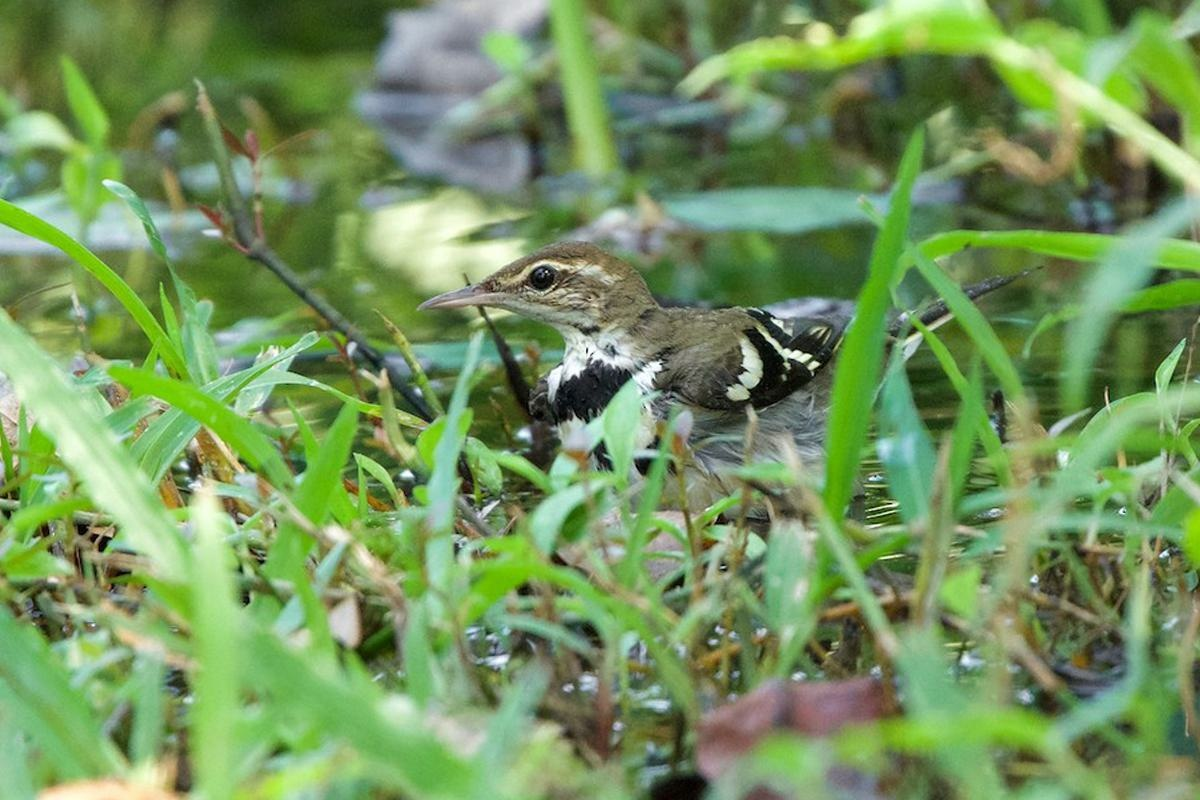wagtail: (468, 246, 853, 512)
